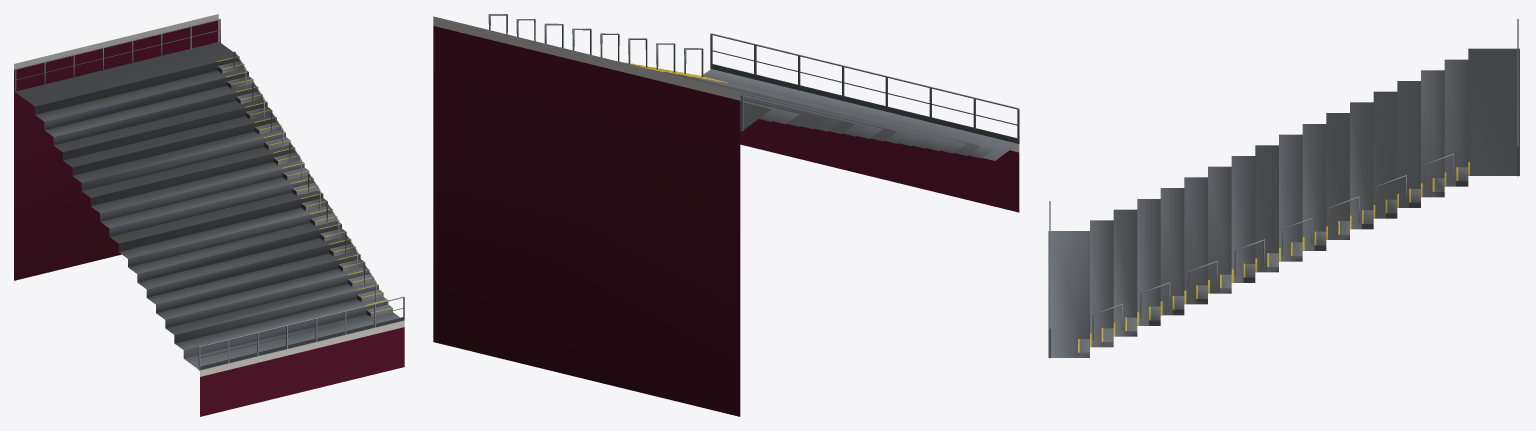
The model's file is stand_T3_kit_0.glb.
3 renders of one model, left to right at view 1: azimuth 30°, elevation 25°; view 2: azimuth 150°, elevation 25°; view 3: azimuth 270°, elevation 25°, orthographic. The views are drawn at different scales.
Parts seen in each view (by area): view 1: kit_0; view 2: kit_0; view 3: kit_0.
Part boxes in pixels (x1,y1,x2,y2): kit_0: (14, 14, 404, 416); kit_0: (433, 14, 1019, 416); kit_0: (1048, 19, 1519, 358).
Size of the model in its own units: 10.22 by 10.3 by 16.
